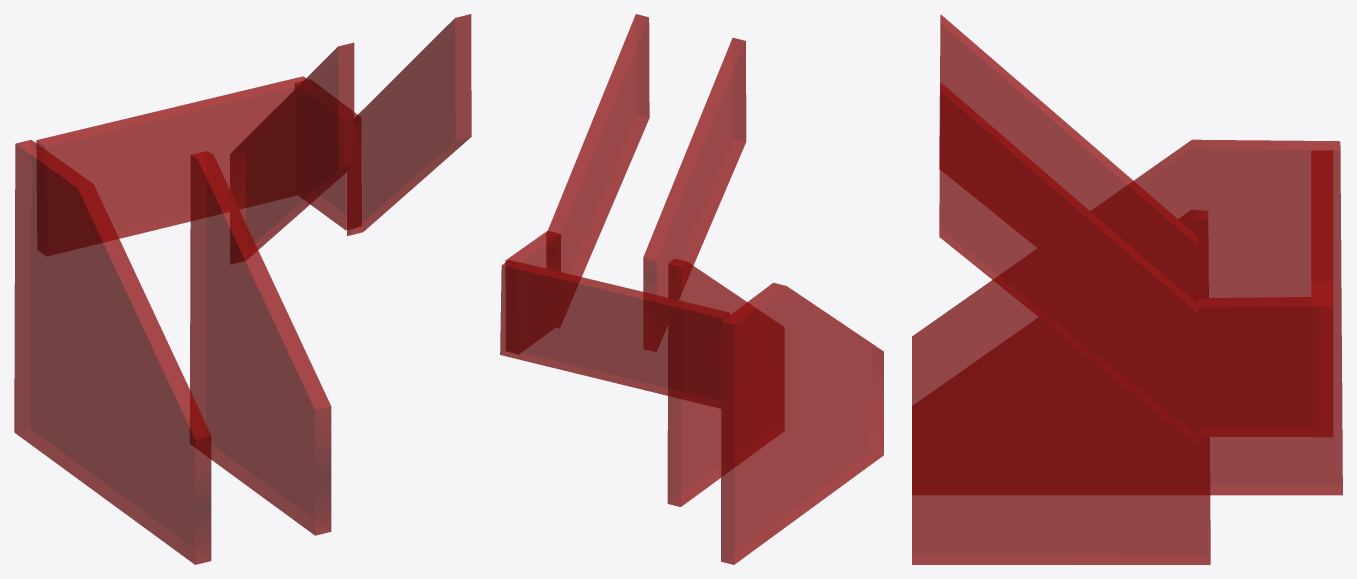
File: SM_Bld_House_Interior_StairsRail_03_COLLISION.fbx
3 views of the same model, side by side, from view 1: azimuth 30°, elevation 25°; view 2: azimuth 150°, elevation 25°; view 3: azimuth 270°, elevation 25° (orthographic). The views are drawn at different scales.
Parts seen in each view (by area): view 1: SM_Bld_House_Interior_StairsRail_03_COLLISION; view 2: SM_Bld_House_Interior_StairsRail_03_COLLISION; view 3: SM_Bld_House_Interior_StairsRail_03_COLLISION.
Part boxes in pixels (x1=…): SM_Bld_House_Interior_StairsRail_03_COLLISION: x1=14, y1=14, x2=471, y2=564; SM_Bld_House_Interior_StairsRail_03_COLLISION: x1=500, y1=14, x2=883, y2=564; SM_Bld_House_Interior_StairsRail_03_COLLISION: x1=912, y1=14, x2=1342, y2=564.
Size of the model in its own units: 248 by 389 by 270.
